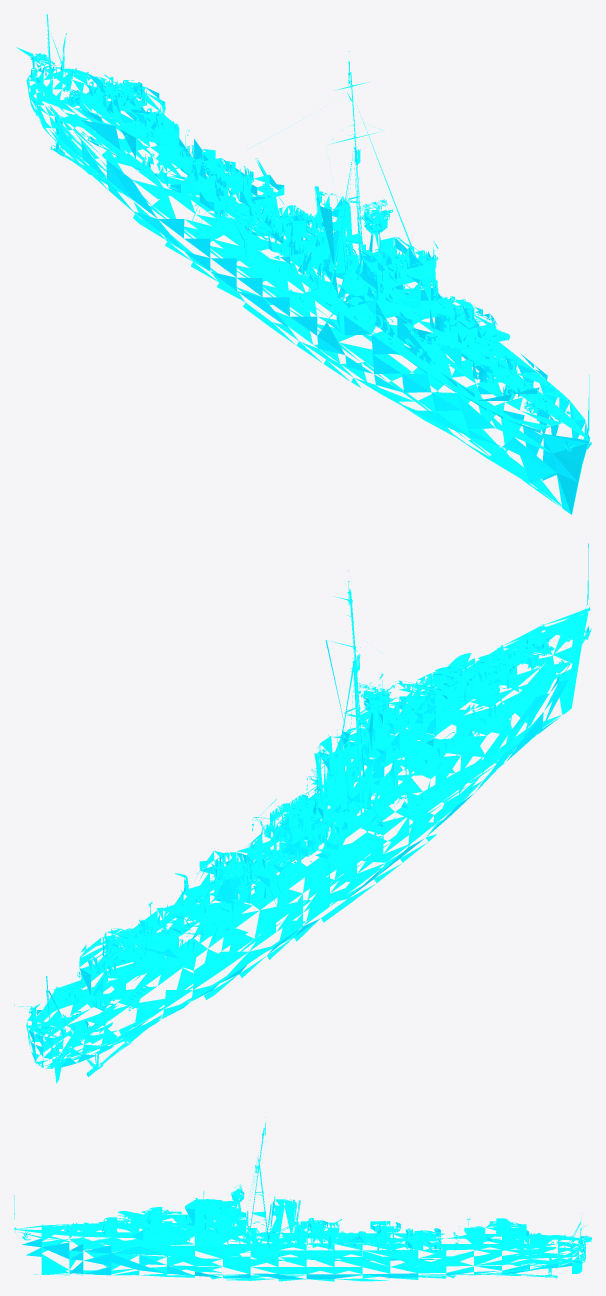
Rendered from PBSD717.glb.
3 views of the same model, one above another, from view 1: azimuth 30°, elevation 25°; view 2: azimuth 150°, elevation 25°; view 3: azimuth 270°, elevation 25° (orthographic). The views are drawn at different scales.
Parts seen in each view (by area): view 1: hull_mid, main_battery, torpedo; view 2: hull_mid, main_battery, torpedo; view 3: hull_mid, main_battery, torpedo.
Boxes of the visible parts, x1,y1,x2,y2 form: hull_mid: (16,14,591,514); main_battery: (96,74,522,383); torpedo: (228,201,290,239); hull_mid: (14,543,591,1083); main_battery: (95,650,522,962); torpedo: (229,847,296,883); hull_mid: (14,1117,591,1281); main_battery: (89,1207,526,1236); torpedo: (338,1231,377,1247).
Size of the model in its own units: 0.7247 by 2.2 by 7.32.
